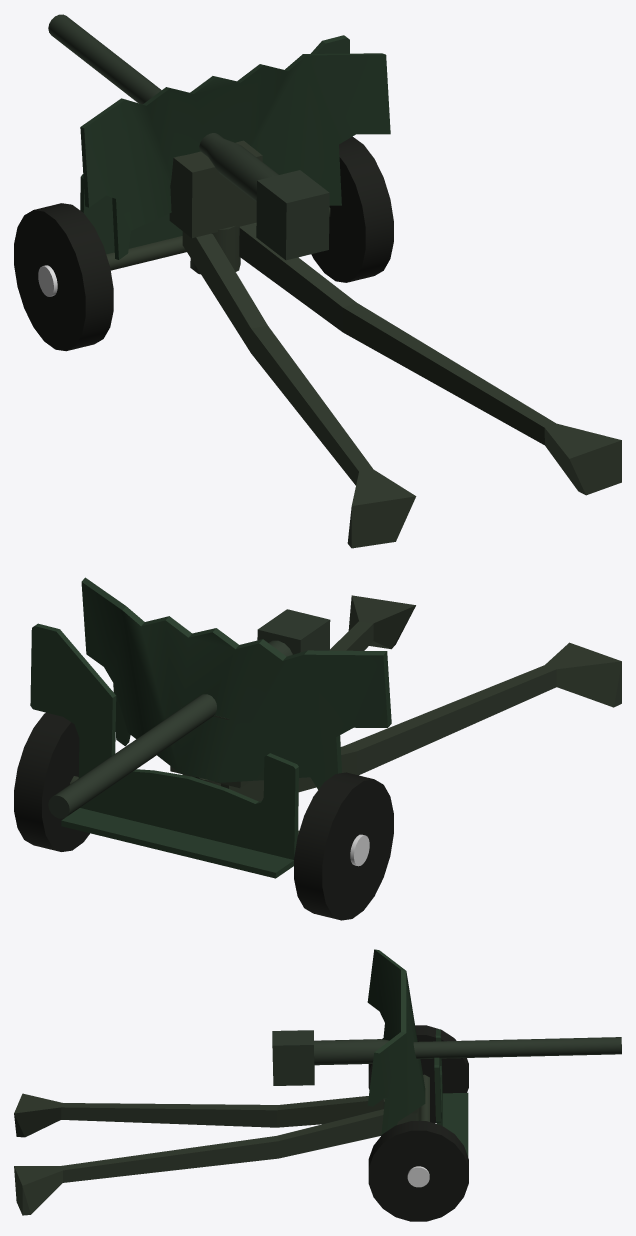
The model's file is 6Pounder.fbx.
3 renders of one model, top to bottom at view 1: azimuth 30°, elevation 25°; view 2: azimuth 150°, elevation 25°; view 3: azimuth 270°, elevation 25°, orthographic. The views are drawn at different scales.
Parts seen in each view (by area): view 1: 6Pounder; view 2: 6Pounder; view 3: 6Pounder.
Boxes of the visible parts, <box> form: 6Pounder: <box>14,14,621,548</box>; 6Pounder: <box>14,577,621,920</box>; 6Pounder: <box>14,949,621,1221</box>.
Size of the model in its own units: 182 by 133 by 434.
